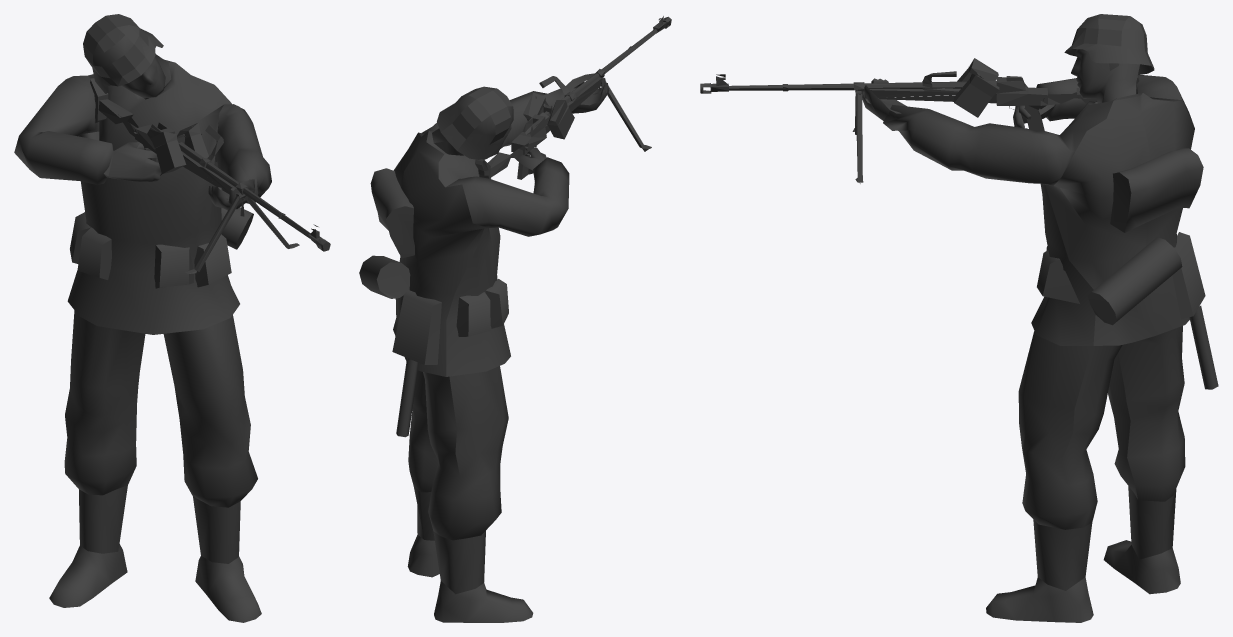
The model's file is de_mg_piedi.glb.
3 views of the same model, side by side, from view 1: azimuth 30°, elevation 25°; view 2: azimuth 150°, elevation 25°; view 3: azimuth 270°, elevation 25° (orthographic). The views are drawn at different scales.
Visible parts, largest first — view 1: German_Anti_Tank_Team.000_German_Anti_Tank_Team.003_2; view 2: German_Anti_Tank_Team.000_German_Anti_Tank_Team.003_2; view 3: German_Anti_Tank_Team.000_German_Anti_Tank_Team.003_2.
Part boxes in pixels (box(x1,y1,x2,y2)): German_Anti_Tank_Team.000_German_Anti_Tank_Team.003_2: box(14, 14, 330, 622); German_Anti_Tank_Team.000_German_Anti_Tank_Team.003_2: box(359, 16, 671, 622); German_Anti_Tank_Team.000_German_Anti_Tank_Team.003_2: box(700, 14, 1218, 622).
Bounding box in the file's own units: 0.2102 × 0.5 × 0.4166.
Materials: 1 (1 with a texture image).
